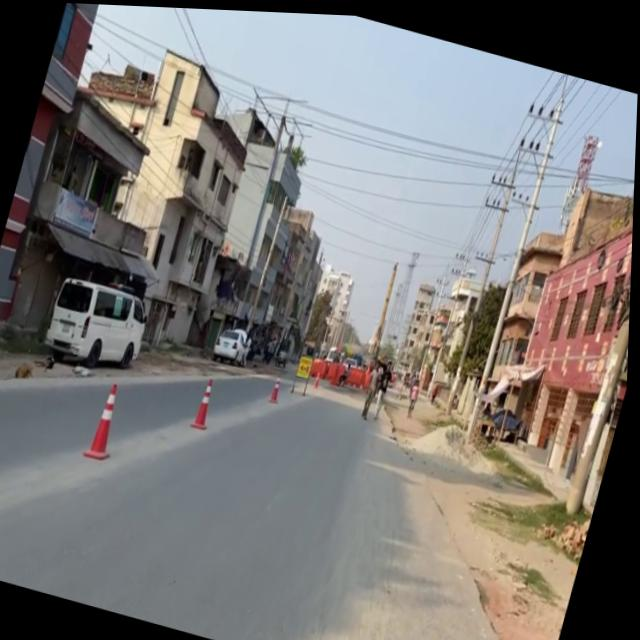Broken-road: (40, 269, 157, 380)
Construction-barrier: (378, 465, 594, 640), (377, 394, 436, 438), (375, 393, 408, 436)
Fallen-tree: (275, 345, 292, 365)
Garbage: (487, 398, 528, 440)
Light-pole: (459, 96, 569, 451), (564, 93, 638, 515)
Pothole: (313, 368, 616, 640), (374, 370, 452, 445)
Traffic-cone: (212, 319, 257, 366)
